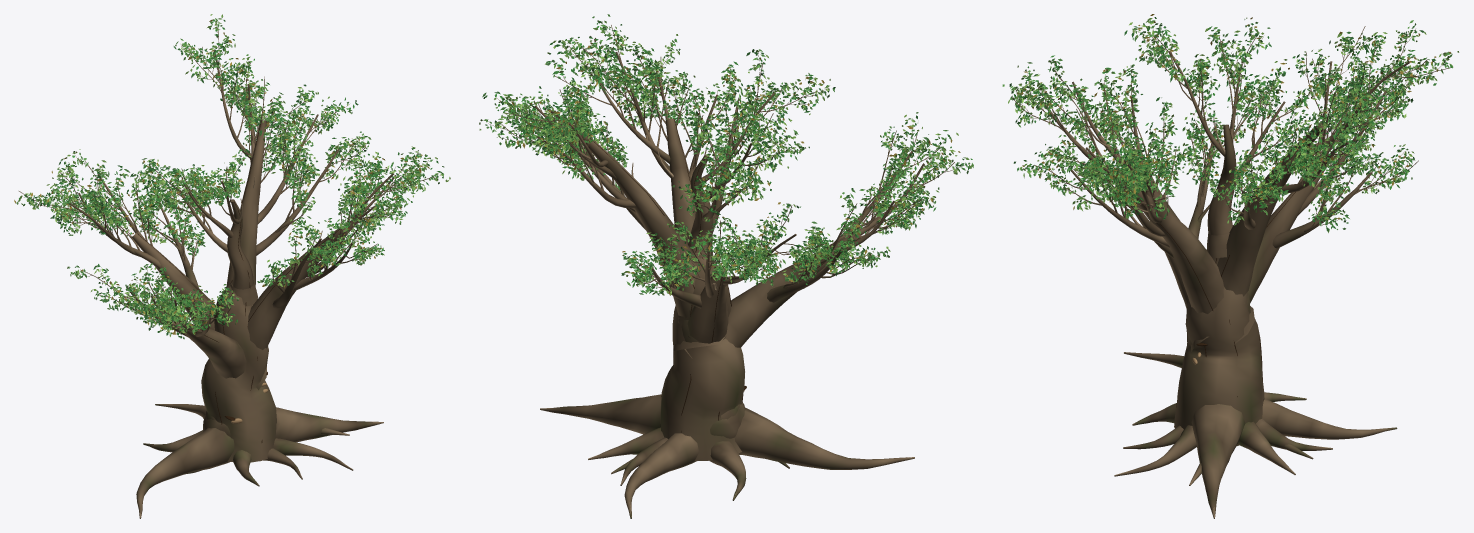
File: ancient_tree_05.glb
3 renders of one model, left to right at view 1: azimuth 30°, elevation 25°; view 2: azimuth 150°, elevation 25°; view 3: azimuth 270°, elevation 25°, orthographic. The views are drawn at different scales.
Visible parts, largest first — view 1: AncientTreeWood, AncientLeaves, FineBranches; view 2: AncientTreeWood, AncientLeaves, FineBranches; view 3: AncientTreeWood, AncientLeaves, FineBranches.
Part boxes in pixels (left/top/right/bottom): AncientTreeWood: left=19, top=28, right=432, bottom=518; AncientLeaves: left=14, top=14, right=450, bottom=339; FineBranches: left=22, top=25, right=440, bottom=332; AncientTreeWood: left=501, top=25, right=954, bottom=518; AncientLeaves: left=479, top=14, right=973, bottom=295; FineBranches: left=488, top=23, right=968, bottom=290; AncientTreeWood: left=1011, top=26, right=1451, bottom=518; AncientLeaves: left=1002, top=14, right=1459, bottom=232; FineBranches: left=1014, top=24, right=1449, bottom=226.
Size of the model in its own units: 20.94 by 21.65 by 20.92.
